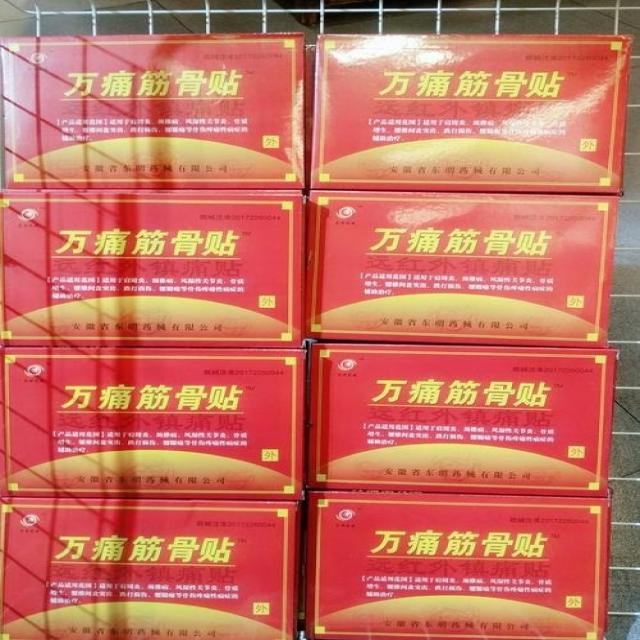box: (306, 35, 636, 194), (305, 188, 621, 347), (0, 188, 306, 349), (306, 341, 621, 497), (0, 344, 307, 501), (1, 32, 306, 188), (308, 488, 607, 638), (3, 497, 308, 638)
